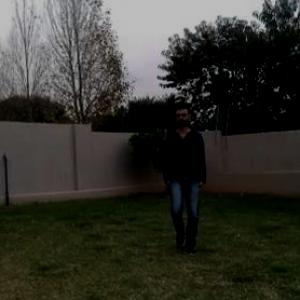follow: (166, 102, 204, 251)
